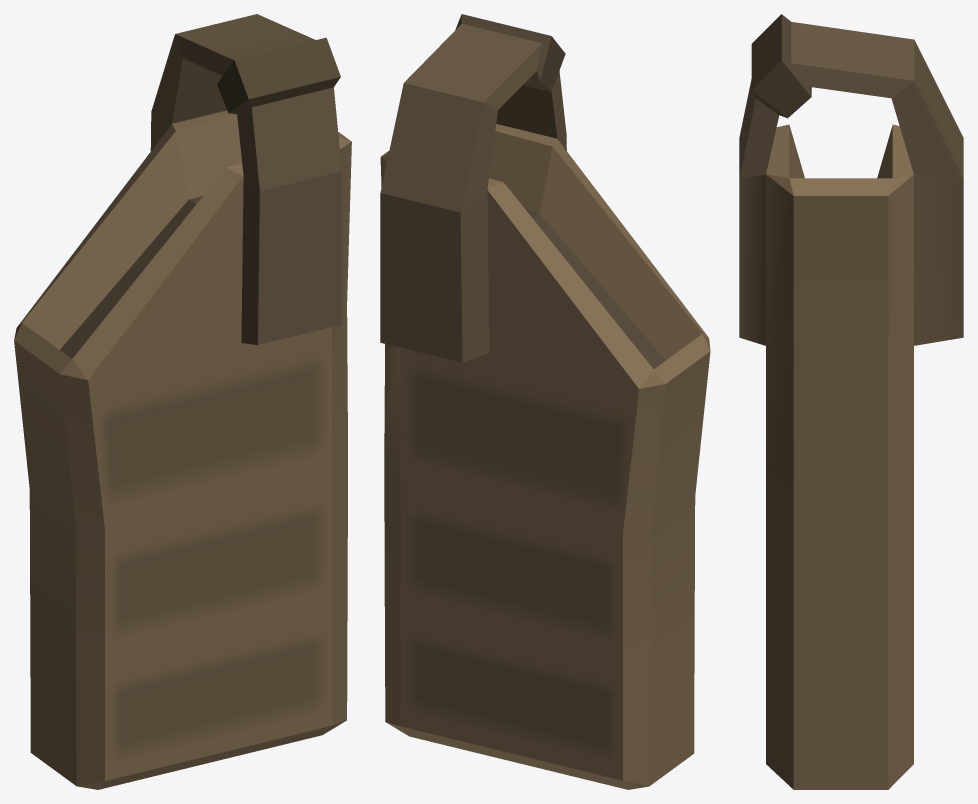
The model's file is SM_Chr_Attach_Holster_01.fbx.
3 views of the same model, side by side, from view 1: azimuth 30°, elevation 25°; view 2: azimuth 150°, elevation 25°; view 3: azimuth 270°, elevation 25° (orthographic). The views are drawn at different scales.
Parts seen in each view (by area): view 1: SM_Chr_Attach_Holster_01; view 2: SM_Chr_Attach_Holster_01; view 3: SM_Chr_Attach_Holster_01.
Part boxes in pixels (<box>): SM_Chr_Attach_Holster_01: <box>14,14,351,789</box>; SM_Chr_Attach_Holster_01: <box>380,14,710,789</box>; SM_Chr_Attach_Holster_01: <box>739,14,963,789</box>.
Size of the model in its own units: 14.41 by 33.12 by 9.28.
